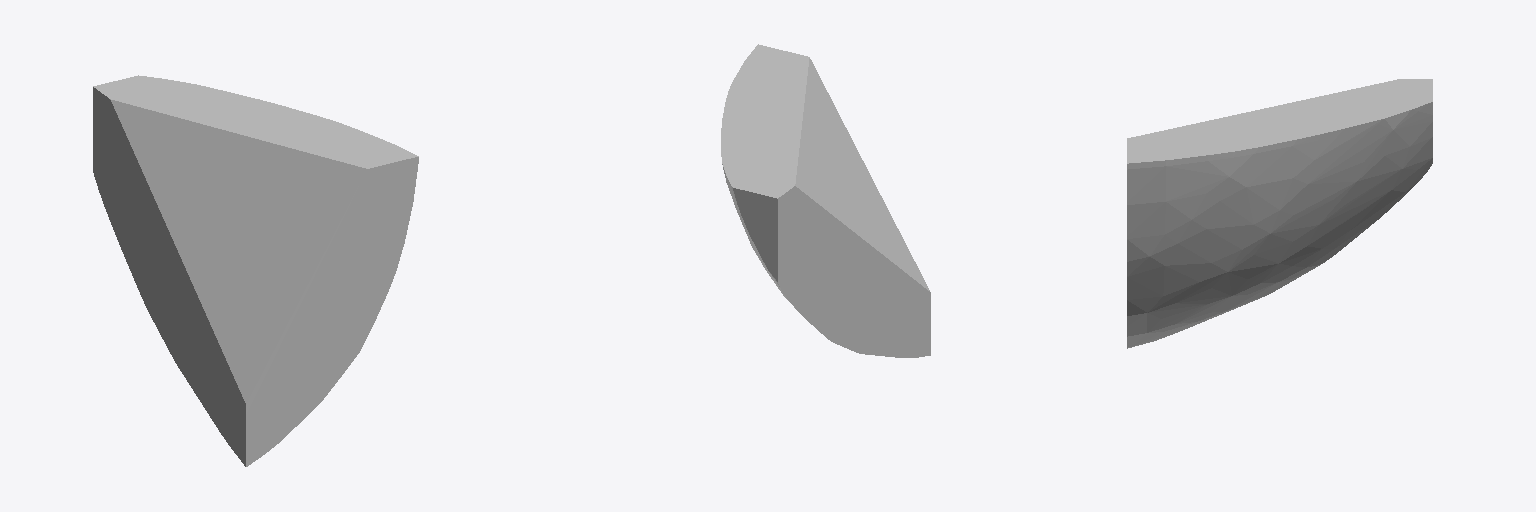
The model's file is phantom-elastrat_collision_657.obj.
The picture shows the model from 3 angles: view 1: azimuth 30°, elevation 25°; view 2: azimuth 150°, elevation 25°; view 3: azimuth 270°, elevation 25°; orthographic projection.
Bounding box in the file's own units: 0.0055 × 0.0081 × 0.0084.